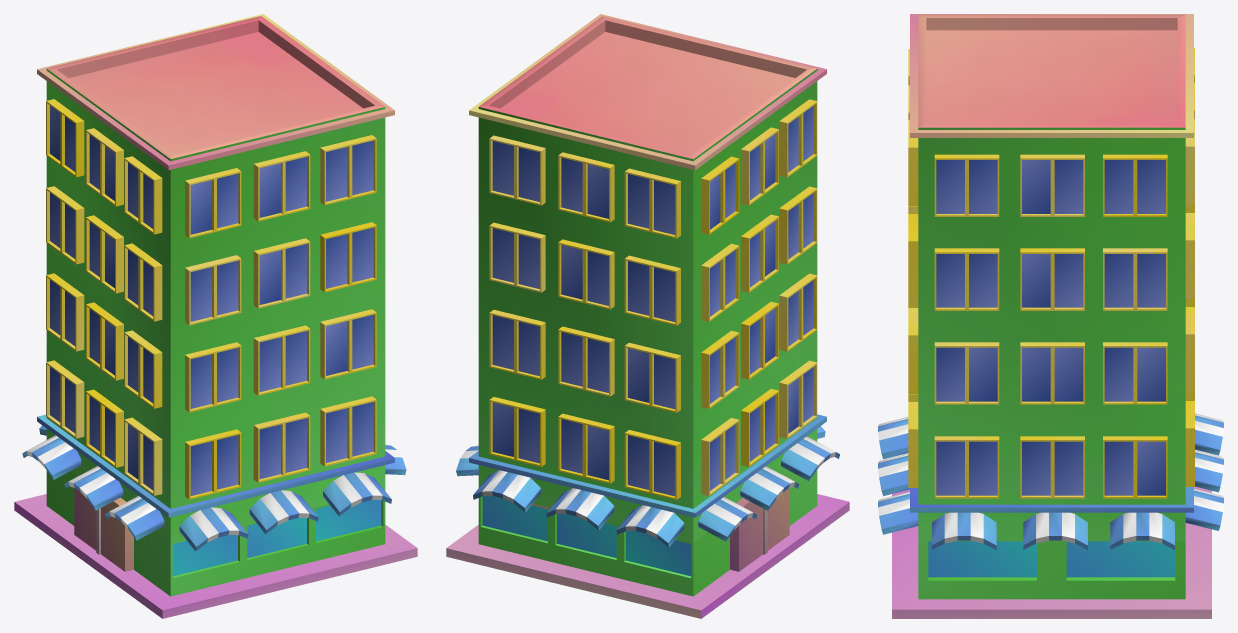
Rendered from House_10.glb.
3 renders of one model, left to right at view 1: azimuth 30°, elevation 25°; view 2: azimuth 150°, elevation 25°; view 3: azimuth 270°, elevation 25°, orthographic. The views are drawn at different scales.
Visible parts, largest first — view 1: House_10; view 2: House_10; view 3: House_10.
Part boxes in pixels (x1,y1,x2,y2): House_10: (14, 14, 417, 618); House_10: (446, 14, 849, 618); House_10: (878, 14, 1223, 618).
Size of the model in its own units: 1065 by 1638 by 1068.
1 material, 1 textured.
